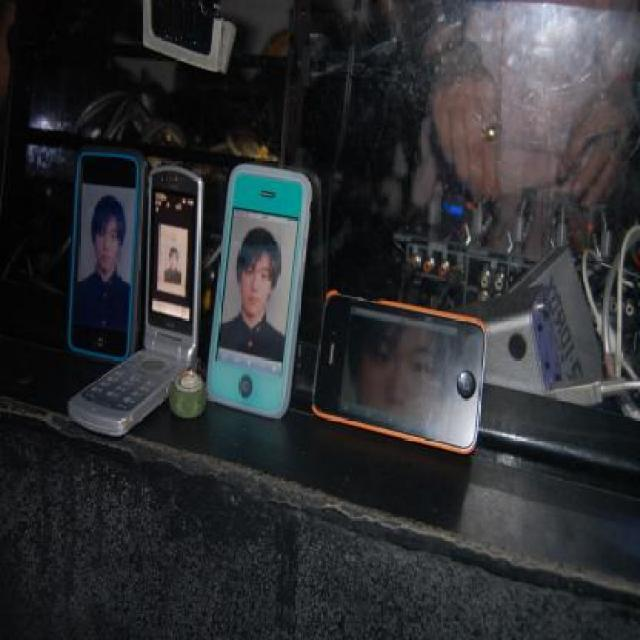phone: (68, 167, 202, 436), (309, 292, 491, 458), (189, 164, 305, 416), (66, 151, 143, 363)
